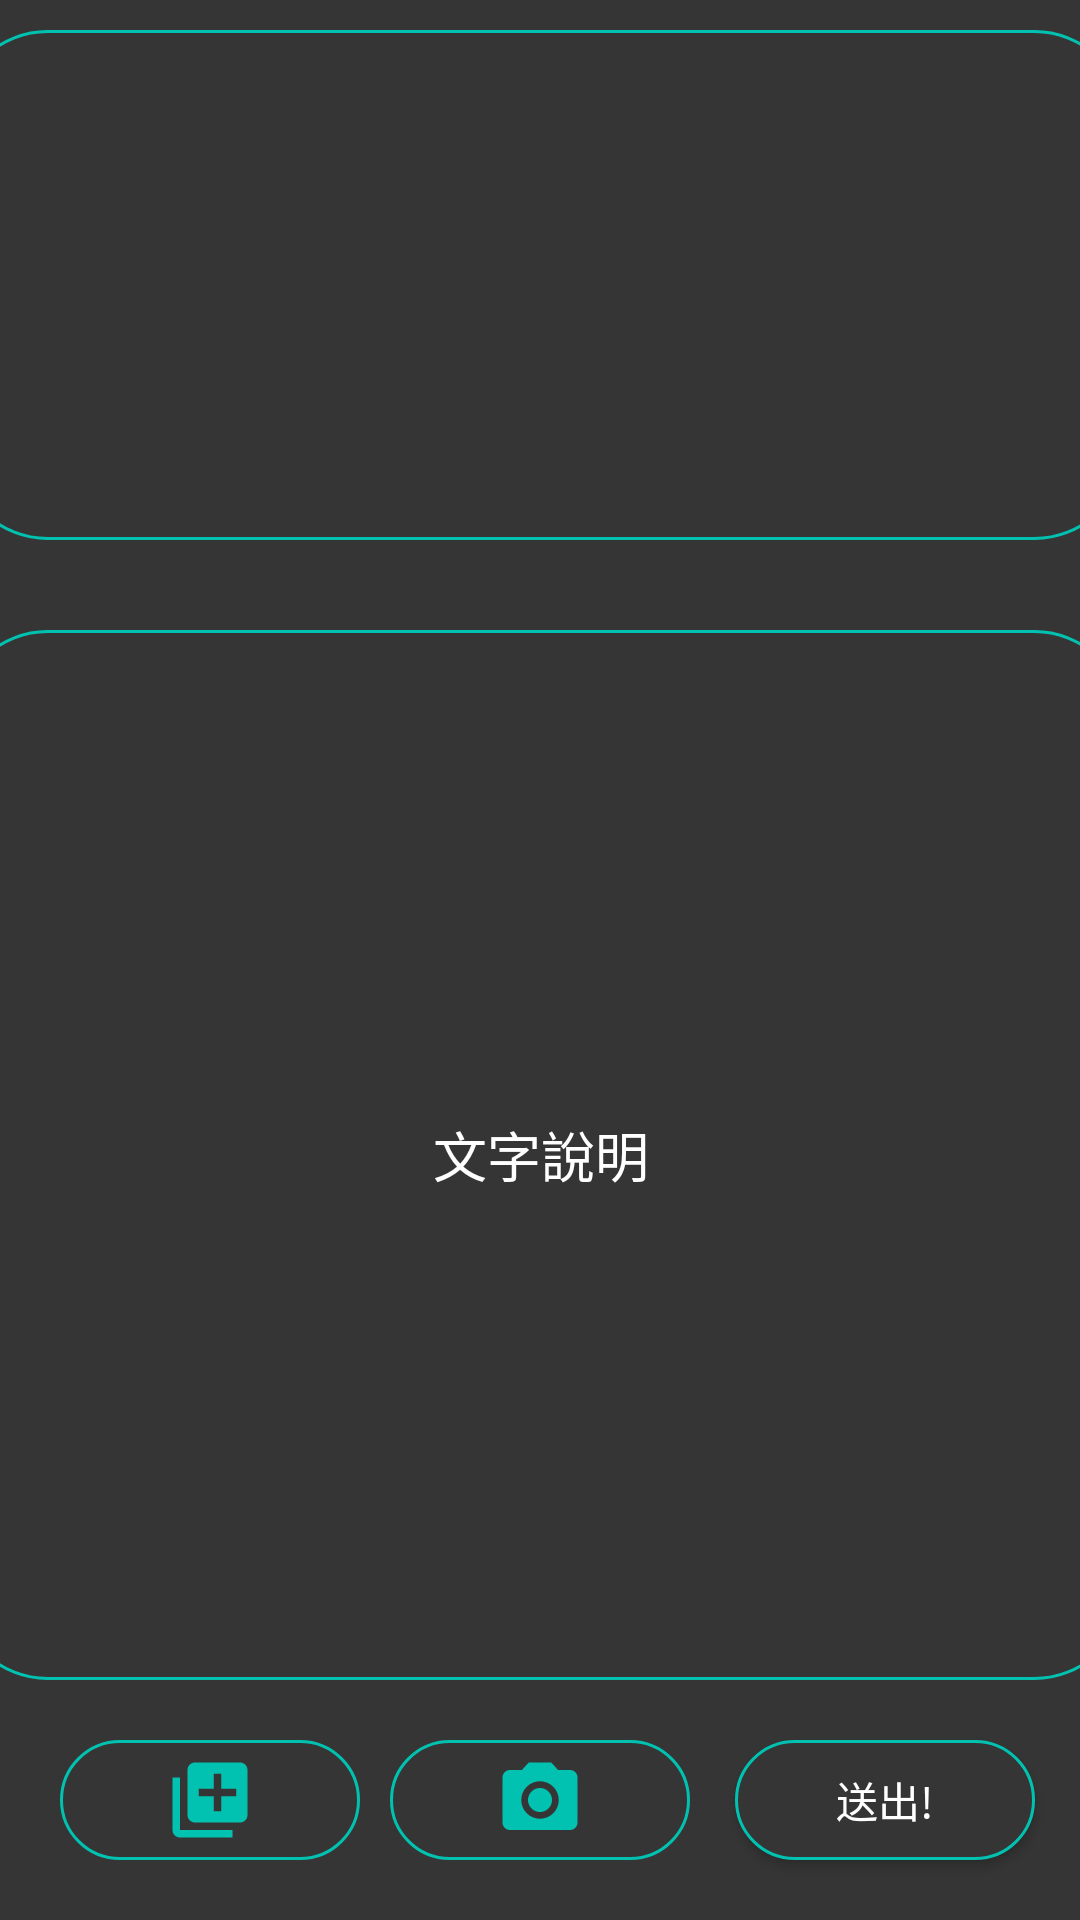

Where icons sit on this 1080 × 1920 app screen, as [left=x1, top=y1, right=x2, bottom=y2]:
album: [left=60, top=1740, right=360, bottom=1860]
camera: [left=390, top=1740, right=690, bottom=1860]
